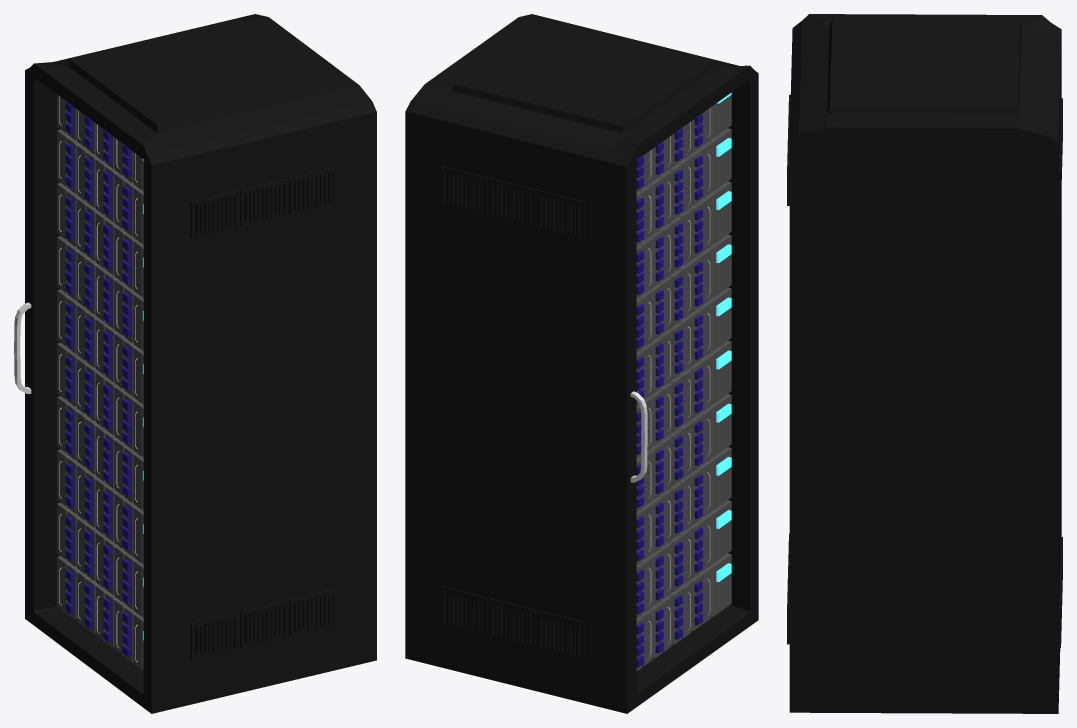
File: rack_2.glb
3 views of the same model, side by side, from view 1: azimuth 30°, elevation 25°; view 2: azimuth 150°, elevation 25°; view 3: azimuth 270°, elevation 25° (orthographic). The views are drawn at different scales.
Parts seen in each view (by area): view 1: rack; view 2: rack; view 3: rack.
Boxes of the visible parts, x1,y1,x2,y2 form: rack: (14, 14, 376, 713); rack: (405, 14, 758, 713); rack: (787, 14, 1062, 713).
Bounding box in the file's own units: 10.64 × 24.27 × 10.25.
